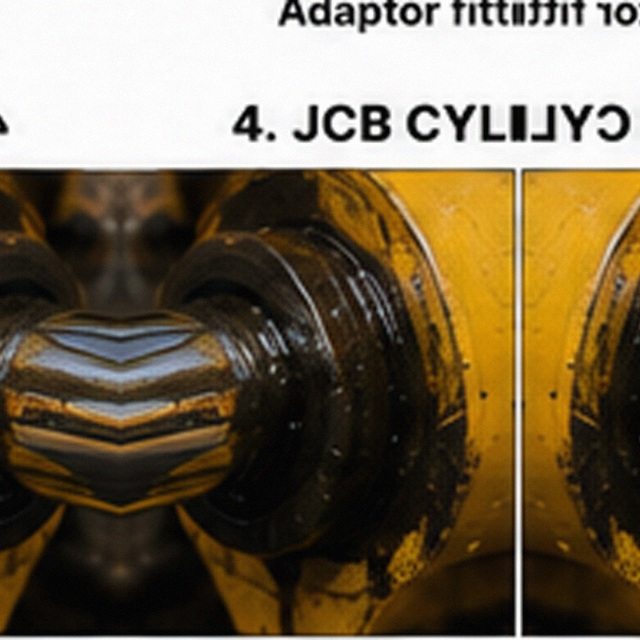hydraulic_oil_leak: (222, 227, 440, 451)
